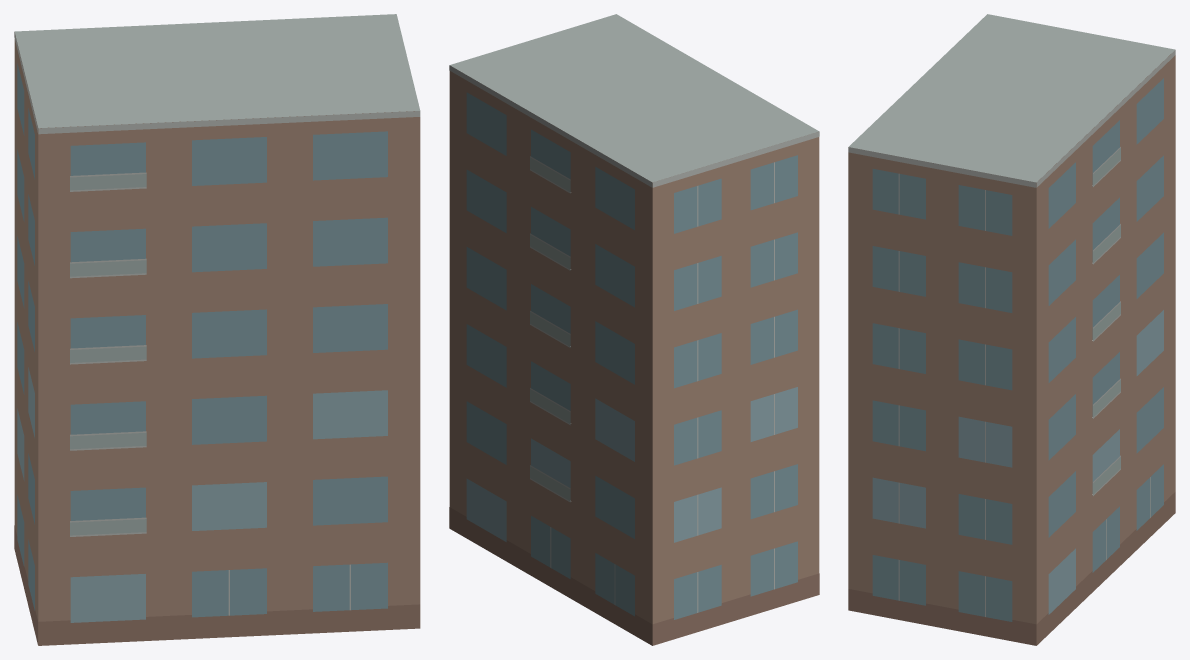
Rendered from survey-upis-32679592.glb.
The picture shows the model from 3 angles, left to right: view 1: azimuth 30°, elevation 25°; view 2: azimuth 150°, elevation 25°; view 3: azimuth 270°, elevation 25°; orthographic projection. The views are drawn at different scales.
Parts seen in each view (by area): view 1: survey-upis-32679592.tmp; view 2: survey-upis-32679592.tmp; view 3: survey-upis-32679592.tmp.
Boxes of the visible parts, x1,y1,x2,y2 form: survey-upis-32679592.tmp: (14, 14, 420, 645); survey-upis-32679592.tmp: (449, 14, 819, 645); survey-upis-32679592.tmp: (848, 14, 1175, 645).
Size of the model in its own units: 16.34 by 20.94 by 13.41.
